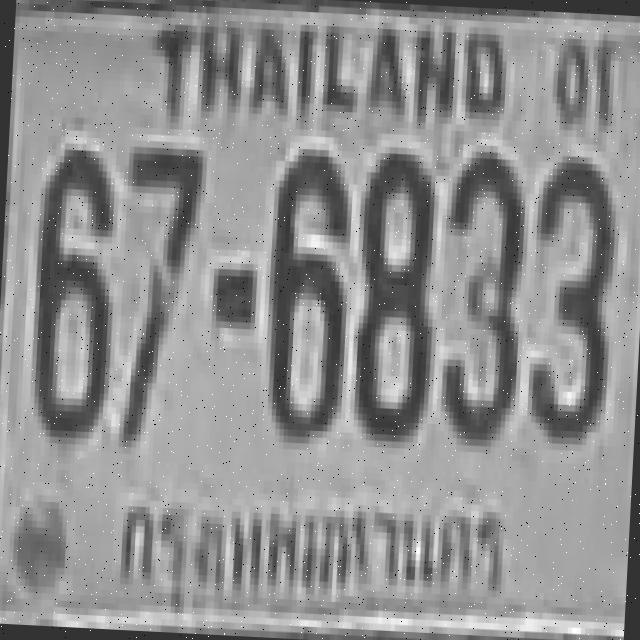3: (522, 148, 614, 440), (435, 144, 524, 441)
6: (23, 145, 116, 436), (262, 145, 351, 442)
7: (112, 140, 201, 444), (118, 143, 202, 343)
8: (349, 146, 437, 437)
Bangkok: (110, 484, 511, 620)
